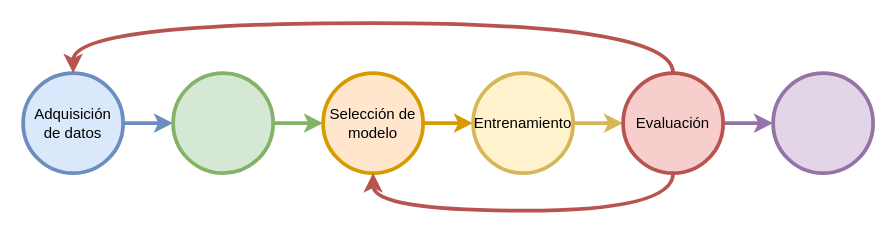
The diagram is 896 pixels wide and 234 high, and some of its shapes have lost their labels. The shapes that lost their labels are listed below. From the top down, each one's centre as x and y in pixels, then its label:
At (x=222, y=122): "Preparación de datos".
At (x=822, y=122): "Despliegue".
